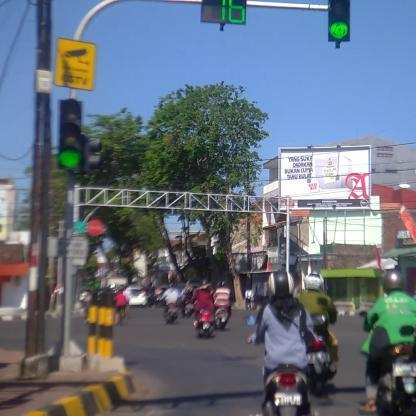green: (58, 99, 84, 171), (327, 1, 351, 43)
